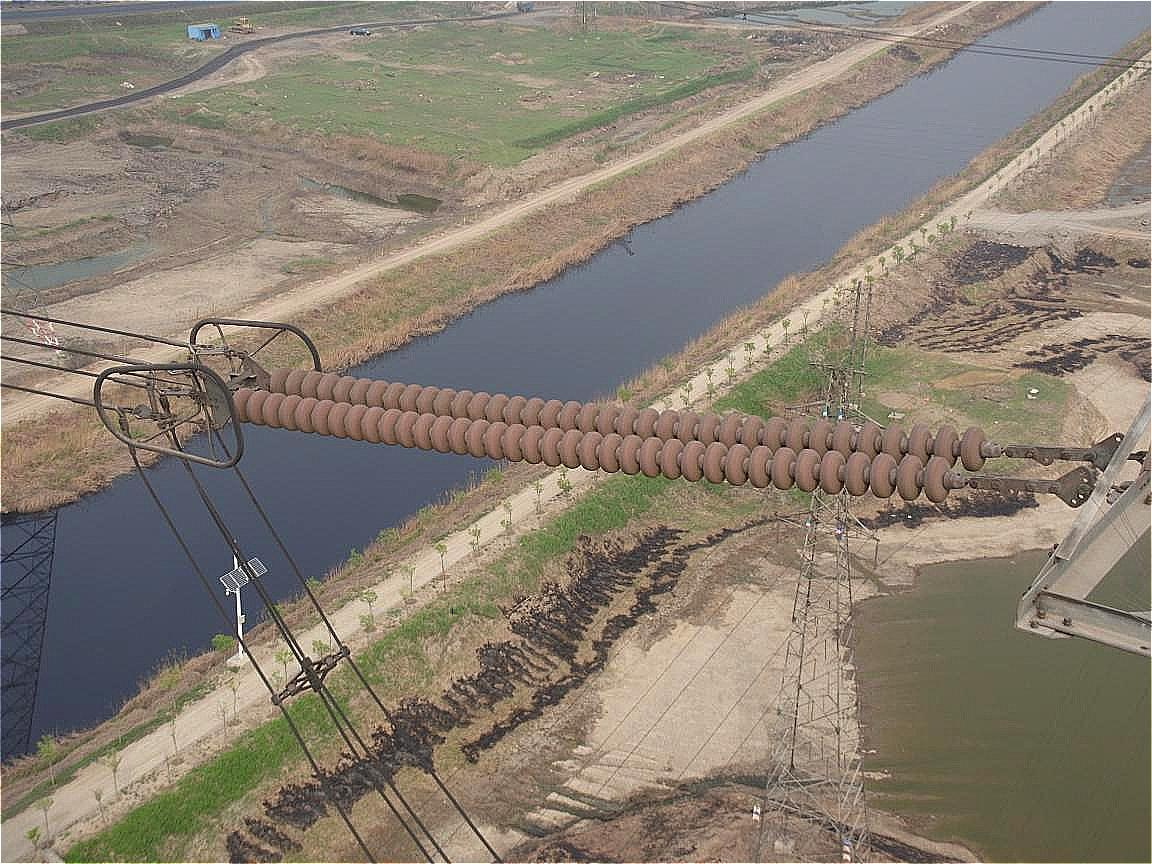insultor1: (171, 351, 1012, 495)
